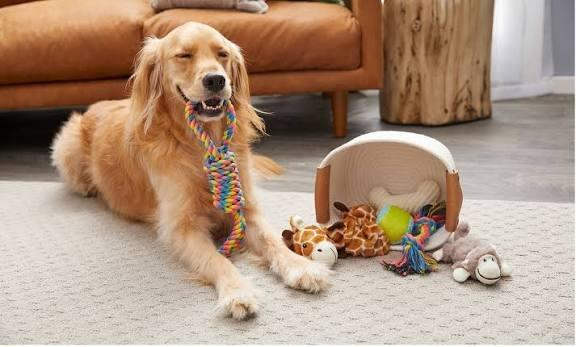adult_dog: (48, 19, 334, 325)
